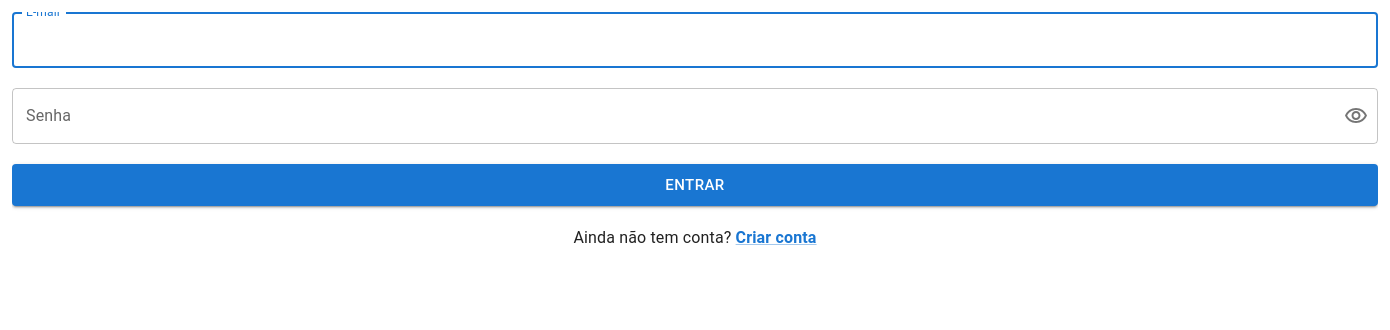
Test: LoginForm › mostra erro genérico sem revelar se a conta existe
The width and height of the screenshot is (1390, 330).
In the field labelled "E-mail": (695, 40) x1=12 y1=12 x2=1378 y2=68, type "missing@example.com"
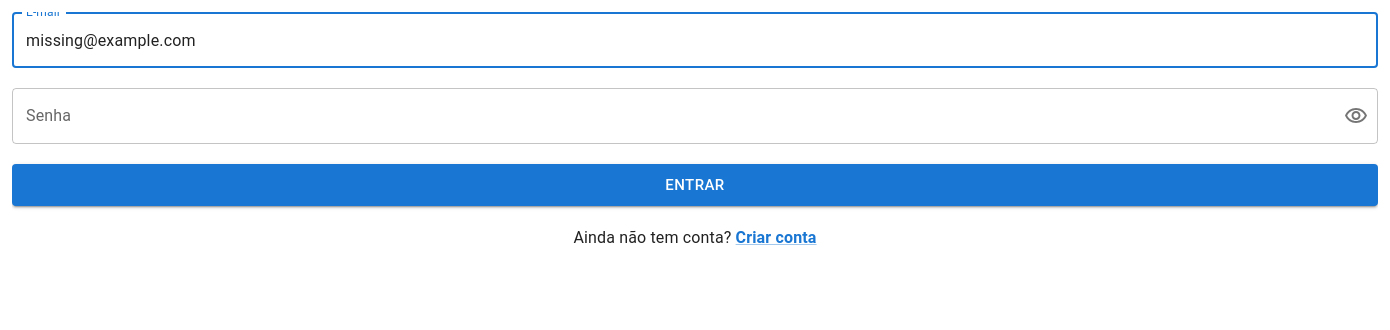
In the password field labelled "Senha": (670, 116) x1=12 y1=88 x2=1328 y2=144, type "valid-password"
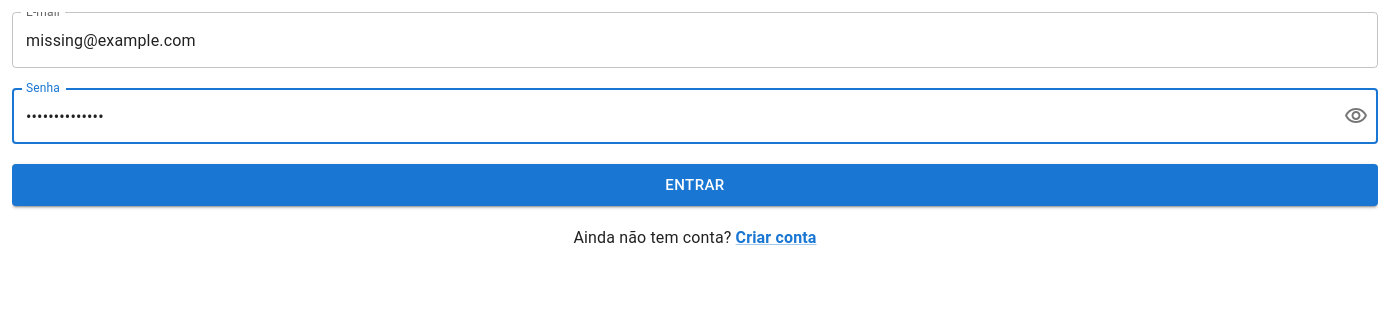
Click the button "Entrar": (695, 185) x1=12 y1=164 x2=1378 y2=206
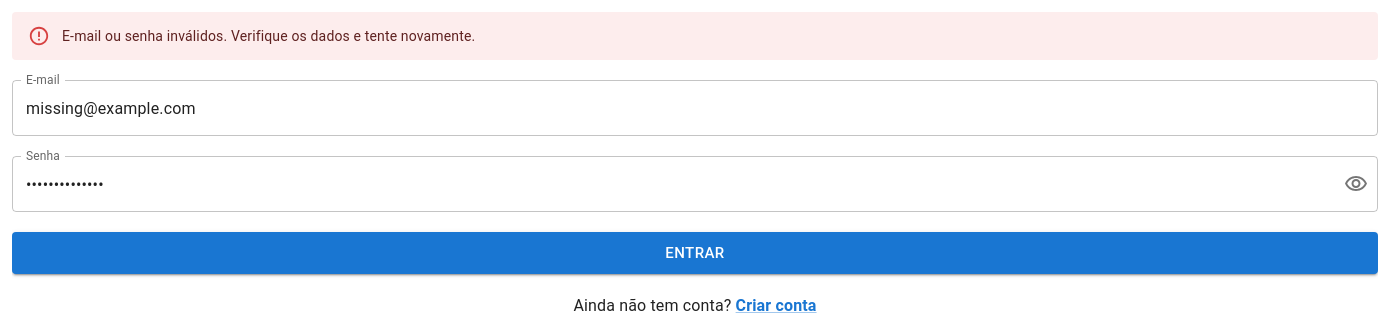
Expected: the text "E-mail ou senha inválidos. Verifique os dados e tente novamente." is shown, x1=62 y1=28 x2=475 y2=44
